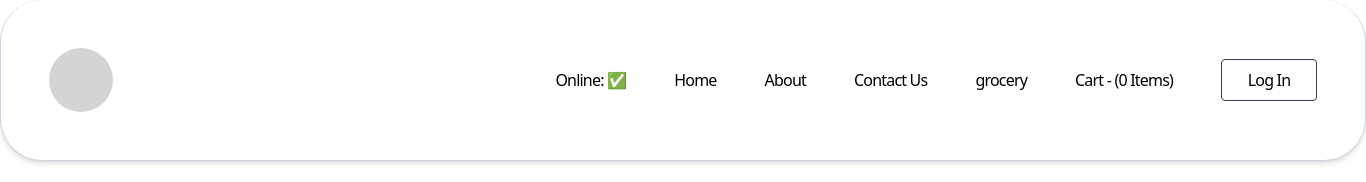
Test: should render Header Component with a Cart Items 0
Click the button "Log In" at (1269, 80), box [1221,59,1317,101]
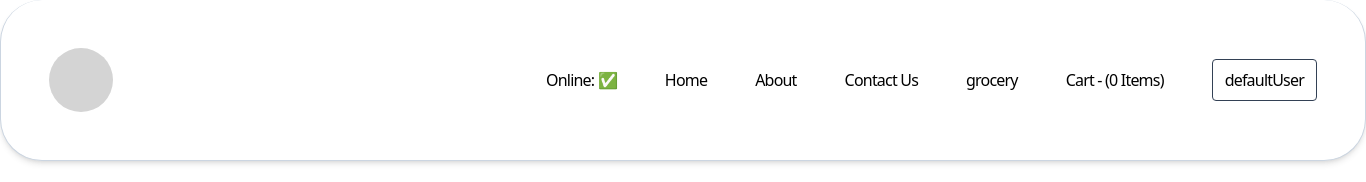
Expected: the button "defaultUser" is shown, [1212,59,1317,101]
